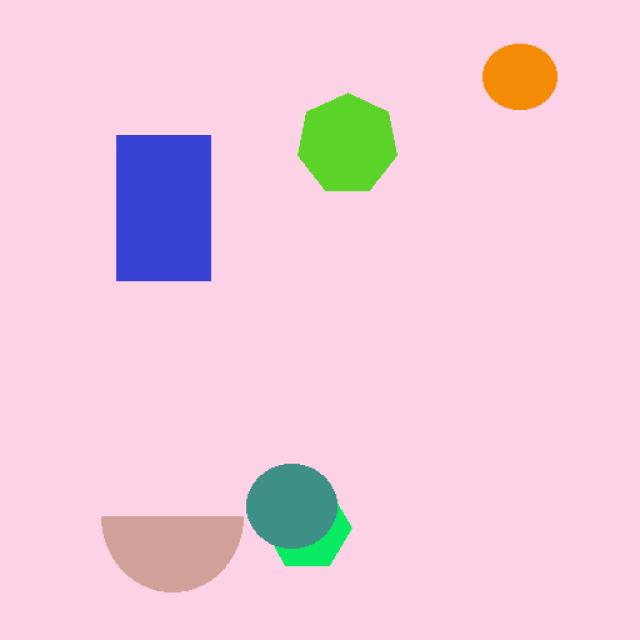Circle: (243, 462, 346, 548), (470, 42, 568, 122)
Heptagon: (289, 86, 411, 208)
Hexagon: (262, 484, 360, 584)
Pentagon: (93, 123, 251, 310)
Semicircle: (87, 503, 275, 590)
